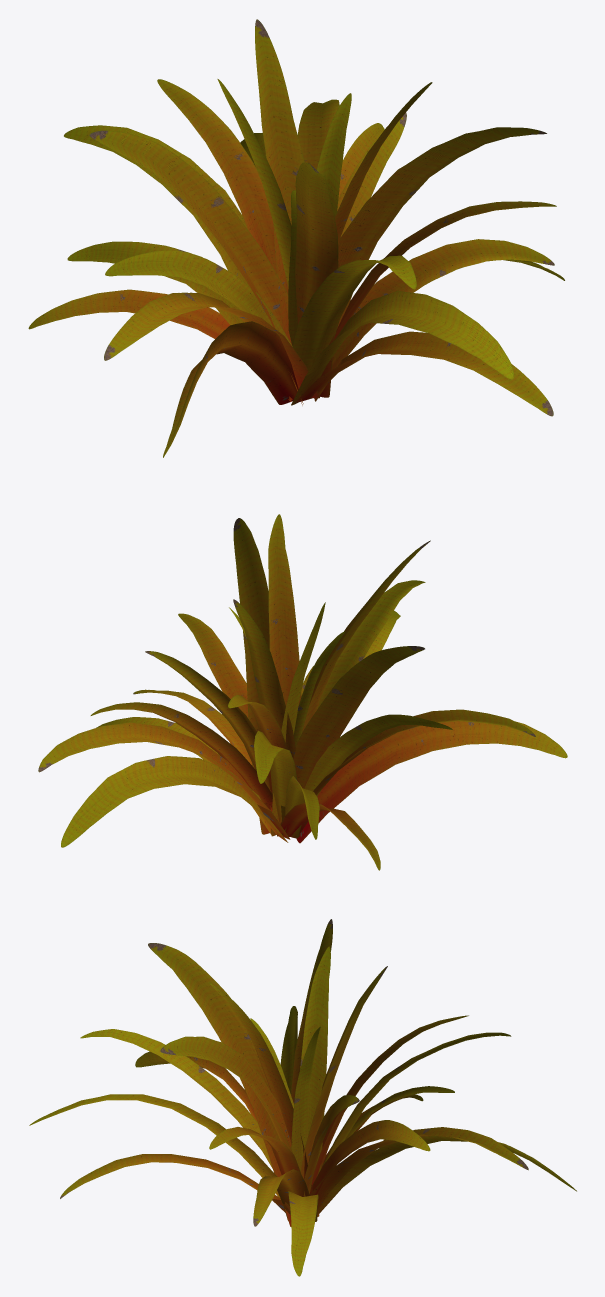
File: PLant_10_2_L0.fbx
3 renders of one model, top to bottom at view 1: azimuth 30°, elevation 25°; view 2: azimuth 150°, elevation 25°; view 3: azimuth 270°, elevation 25°, orthographic. The views are drawn at different scales.
Visible parts, largest first — view 1: polySurface4; view 2: polySurface4; view 3: polySurface4.
Part boxes in pixels (box(x1,y1,x2,y2)): polySurface4: box(28, 19, 564, 457); polySurface4: box(38, 514, 567, 870); polySurface4: box(29, 919, 576, 1276).
Bounding box in the file's own units: 179 × 114 × 211.
